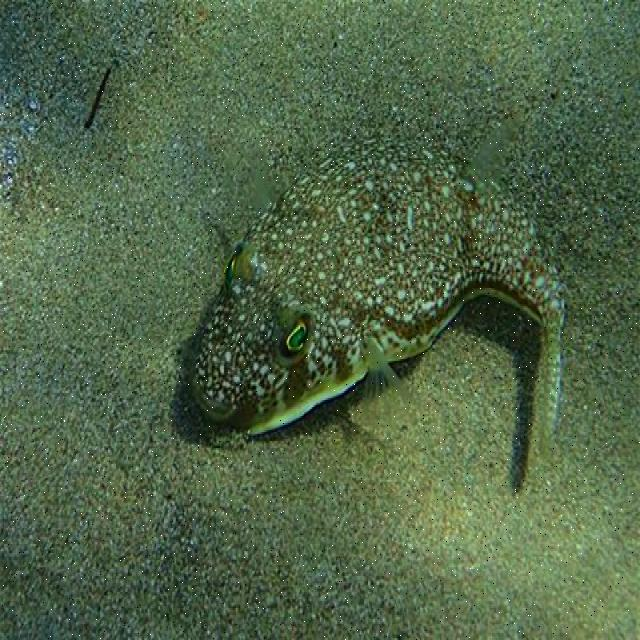Balik: (192, 143, 563, 433)
